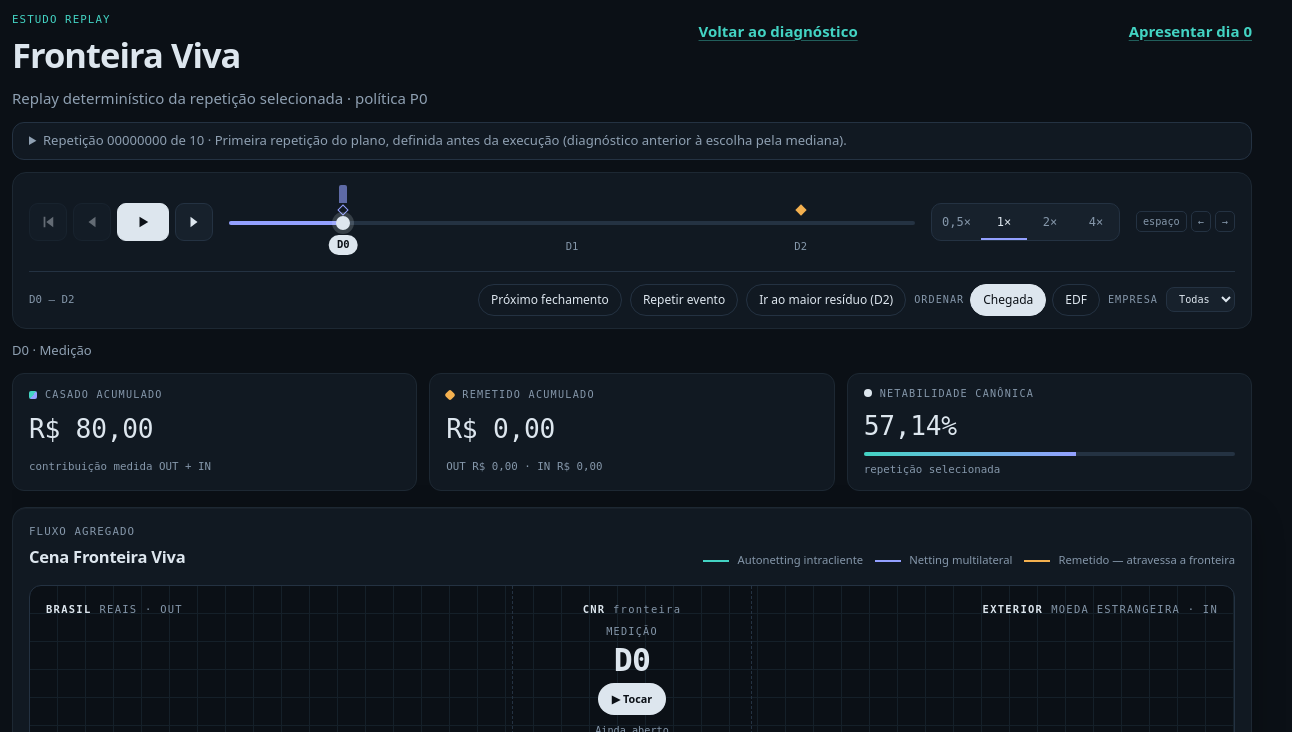
Scenario: ReplayPage › reabre a execução pela URL e constrói o replay com o resultado persistido
The width and height of the screenshot is (1292, 732).
Check: the heading "Fronteira Viva" is shown, box x1=12 y1=31 x2=240 y2=78
Check: the text "D0 · Medição" is shown, box x1=12 y1=341 x2=92 y2=359
Click the heading "Repetição 00000000 de 10 · Primeira repetição do plano".
click(445, 140)  # box x1=43 y1=131 x2=847 y2=149
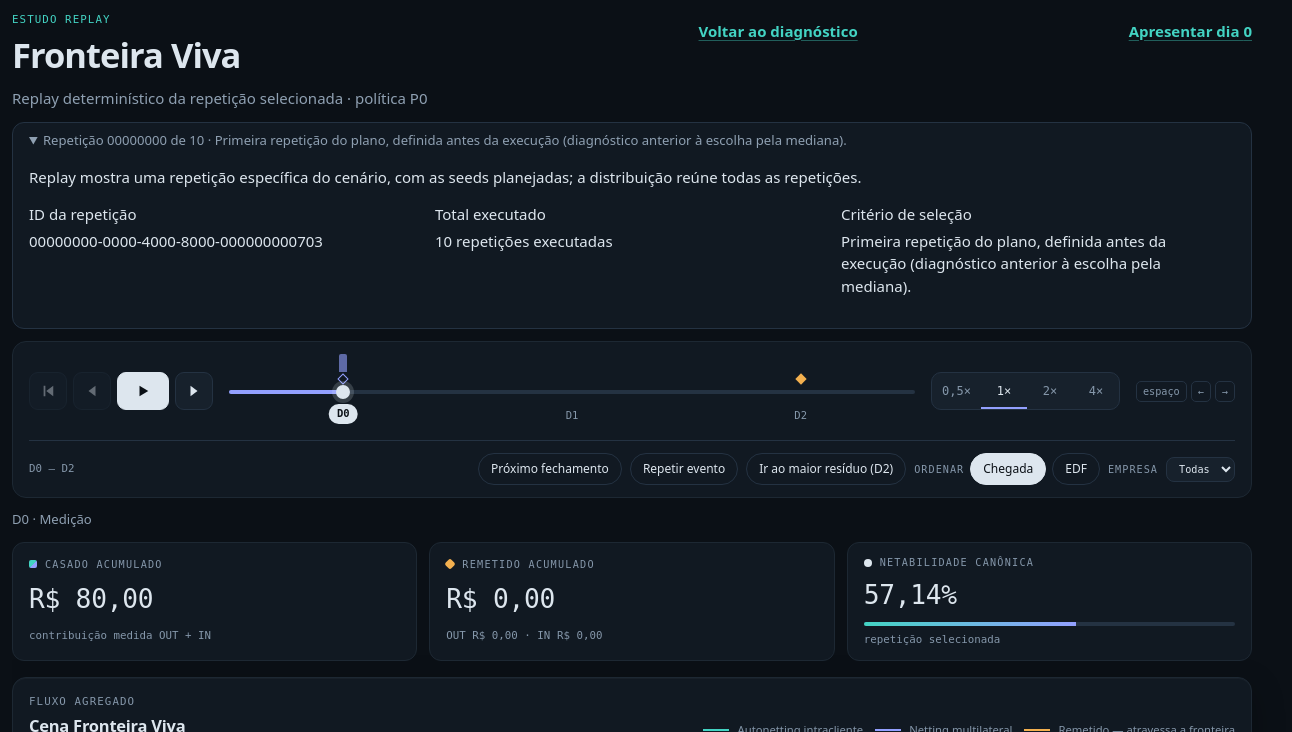
Check: the text "00000000-0000-4000-8000-000000000703" is shown, box x1=29 y1=231 x2=323 y2=251
Check: the text "10 repetições executadas" is shown, box x1=435 y1=231 x2=613 y2=251
Check: the text "Replay mostra uma repetição específica" is shown, box x1=29 y1=167 x2=862 y2=187
